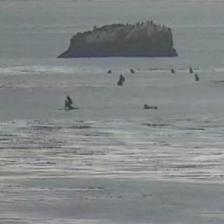surfer: (64, 100, 74, 110), (144, 104, 157, 110), (65, 96, 73, 104), (118, 74, 125, 82), (117, 78, 123, 86), (195, 74, 200, 82), (188, 67, 194, 73), (171, 68, 177, 74), (108, 69, 114, 74), (130, 69, 135, 74)
